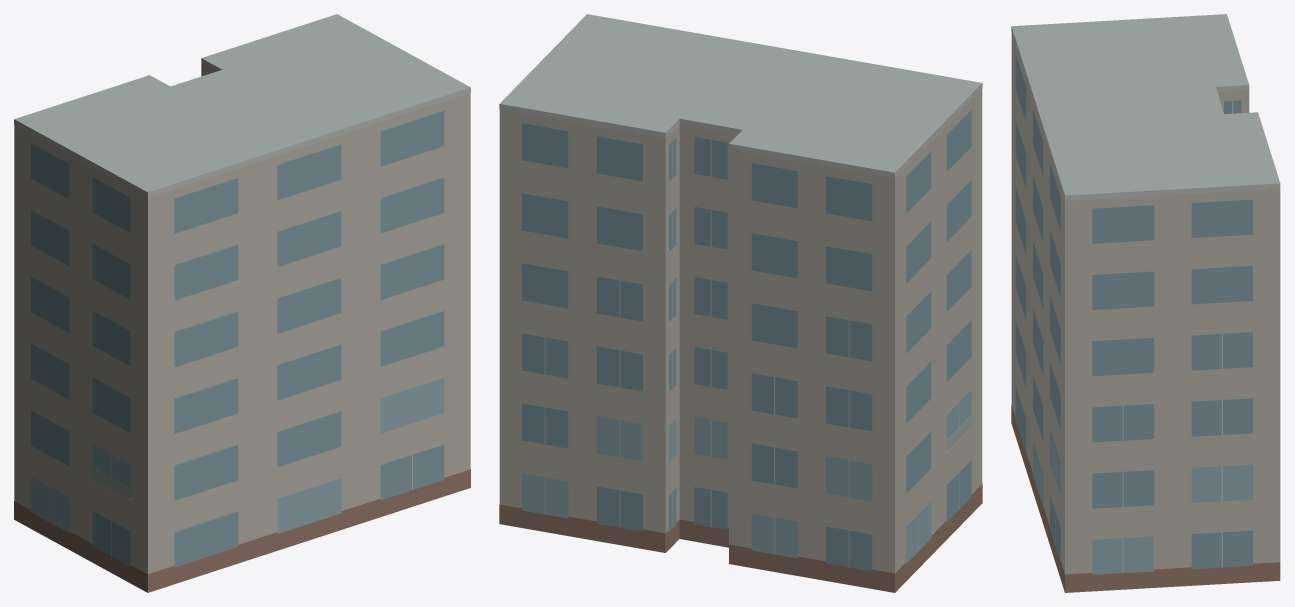
The model's file is survey-upis-32849160.glb.
3 renders of one model, left to right at view 1: azimuth 30°, elevation 25°; view 2: azimuth 150°, elevation 25°; view 3: azimuth 270°, elevation 25°, orthographic. The views are drawn at different scales.
Parts seen in each view (by area): view 1: survey-upis-32849160.tmp; view 2: survey-upis-32849160.tmp; view 3: survey-upis-32849160.tmp.
Part boxes in pixels (x1=…): survey-upis-32849160.tmp: x1=14, y1=14, x2=470, y2=592; survey-upis-32849160.tmp: x1=499, y1=14, x2=982, y2=592; survey-upis-32849160.tmp: x1=1011, y1=14, x2=1280, y2=592.
Bounding box in the file's own units: 17.55 × 17.9 × 10.99.
